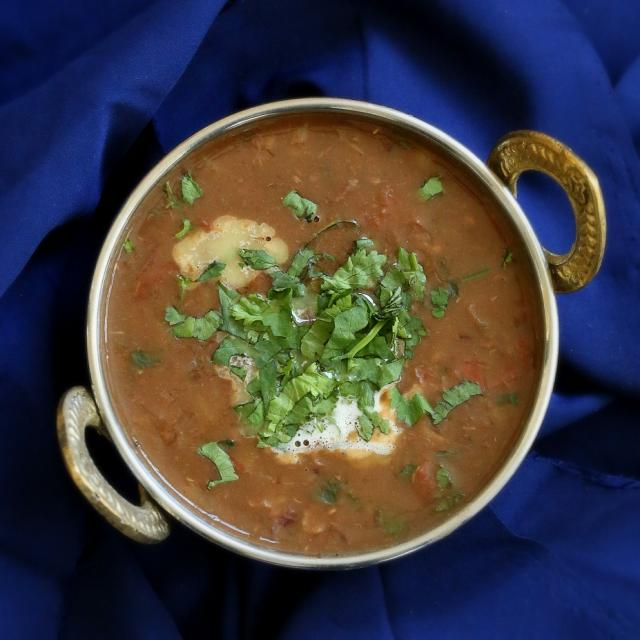dal_makhani: (89, 147, 543, 519)
